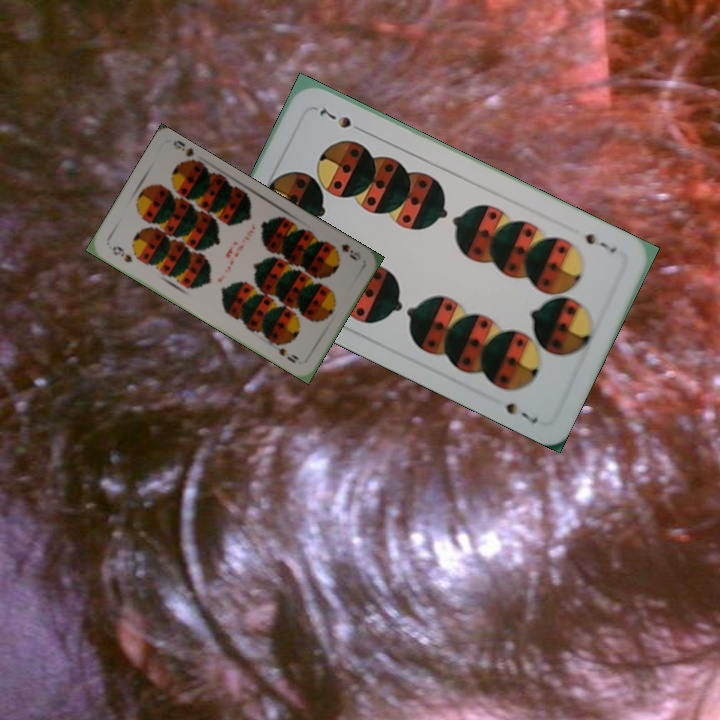S7: (581, 229, 619, 256)
S9: (326, 240, 364, 263), (108, 242, 135, 265)
